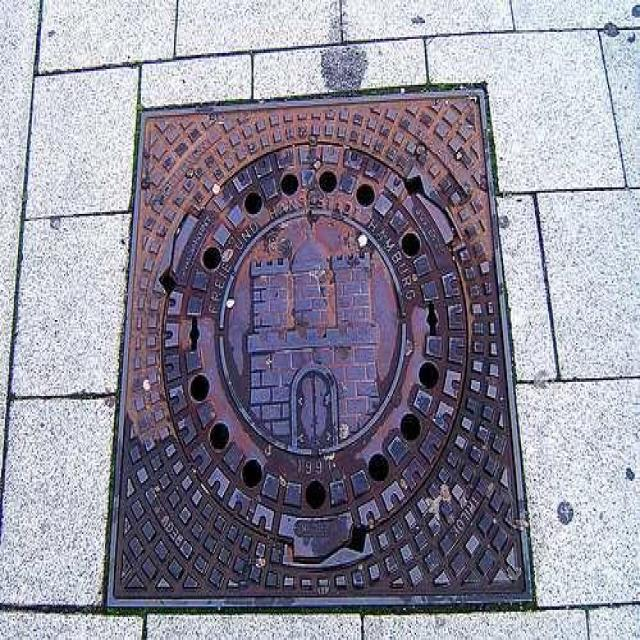manhole: (109, 88, 531, 607)
